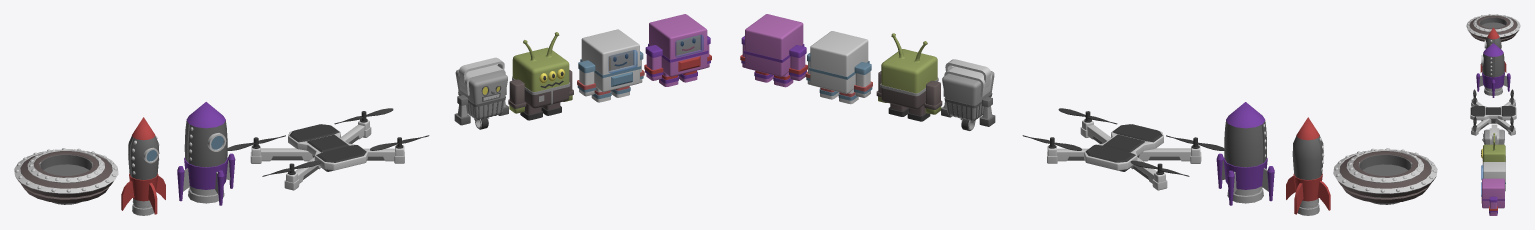
File: FBX karakteri i vozila.FBX
The picture shows the model from 3 angles, left to right: view 1: azimuth 30°, elevation 25°; view 2: azimuth 150°, elevation 25°; view 3: azimuth 270°, elevation 25°; orthographic projection. The views are drawn at different scales.
Parts seen in each view (by area): view 1: Group035, Box089, Box001, Cylinder007, Box118, Box132, Cylinder010, Box106, Group033, Cylinder004, Group034, Group017 (+14 smaller); view 2: Box001, Box118, Box089, Group035, Cylinder007, Cylinder010, Box132, Box106, Cylinder004, Group033, Group017, Group034 (+10 smaller); view 3: Group035, Box001, Cylinder007, Cylinder010, Box089, Box132, Box118, Box128, Group034, Cylinder011, Box106, Group017 (+19 smaller).
Boxes of the visible parts, bbox=[...] form: Group035: bbox=[14, 149, 118, 193]; Box089: bbox=[512, 32, 569, 108]; Box001: bbox=[649, 14, 707, 76]; Cylinder007: bbox=[16, 151, 113, 203]; Box118: bbox=[581, 29, 639, 92]; Box132: bbox=[289, 124, 366, 162]; Cylinder010: bbox=[184, 120, 227, 167]; Box106: bbox=[455, 69, 507, 119]; Group033: bbox=[121, 150, 165, 214]; Cylinder004: bbox=[128, 135, 159, 179]; Group034: bbox=[184, 136, 228, 189]; Group017: bbox=[458, 57, 505, 95]; Box001: bbox=[745, 14, 803, 76]; Box118: bbox=[810, 31, 868, 93]; Box089: bbox=[881, 33, 937, 109]; Group035: bbox=[1333, 149, 1437, 193]; Cylinder007: bbox=[1338, 151, 1435, 203]; Cylinder010: bbox=[1224, 121, 1266, 167]; Box132: bbox=[1085, 124, 1162, 162]; Box106: bbox=[942, 71, 994, 120]; Cylinder004: bbox=[1292, 136, 1324, 180]; Group033: bbox=[1286, 174, 1330, 214]; Group017: bbox=[944, 59, 992, 96]; Group034: bbox=[1223, 158, 1267, 189]; Group035: bbox=[1466, 14, 1520, 37]; Box001: bbox=[1482, 178, 1504, 208]; Cylinder007: bbox=[1468, 15, 1518, 41]; Cylinder010: bbox=[1482, 53, 1504, 77]; Box089: bbox=[1483, 133, 1505, 163]; Box132: bbox=[1471, 106, 1515, 116]; Box118: bbox=[1483, 162, 1505, 191]; Box128: bbox=[1470, 106, 1516, 120]; Group034: bbox=[1482, 72, 1504, 88]; Cylinder011: bbox=[1483, 43, 1503, 56]; Box106: bbox=[1484, 129, 1504, 144]; Group017: bbox=[1489, 124, 1499, 144].
Bounding box in the file's own units: 548 × 72.42 × 72.46.
